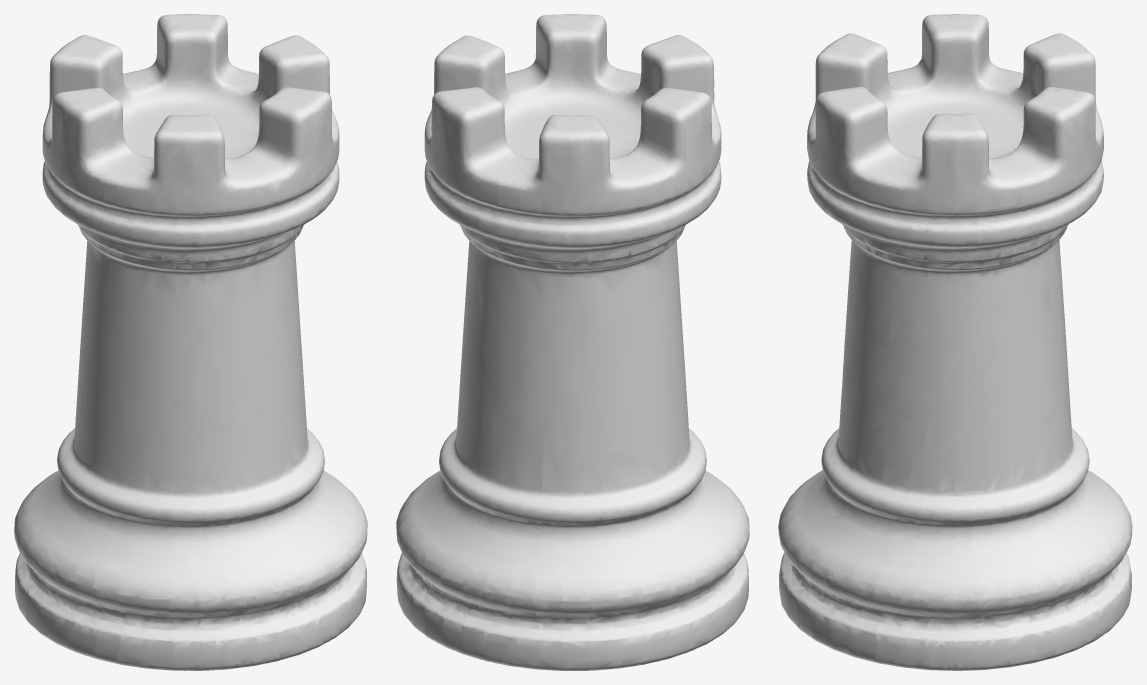
Rendered from knight_low.glb.
3 views of the same model, side by side, from view 1: azimuth 30°, elevation 25°; view 2: azimuth 150°, elevation 25°; view 3: azimuth 270°, elevation 25° (orthographic).
Visible parts, largest first — view 1: geometry_0; view 2: geometry_0; view 3: geometry_0.
Boxes of the visible parts, left/top/right/bottom form: geometry_0: left=14, top=14, right=367, bottom=670; geometry_0: left=396, top=14, right=749, bottom=670; geometry_0: left=778, top=14, right=1132, bottom=670.
Bounding box in the file's own units: 0.6098 × 1 × 0.6102.
Materials: 1 (1 with a texture image).
